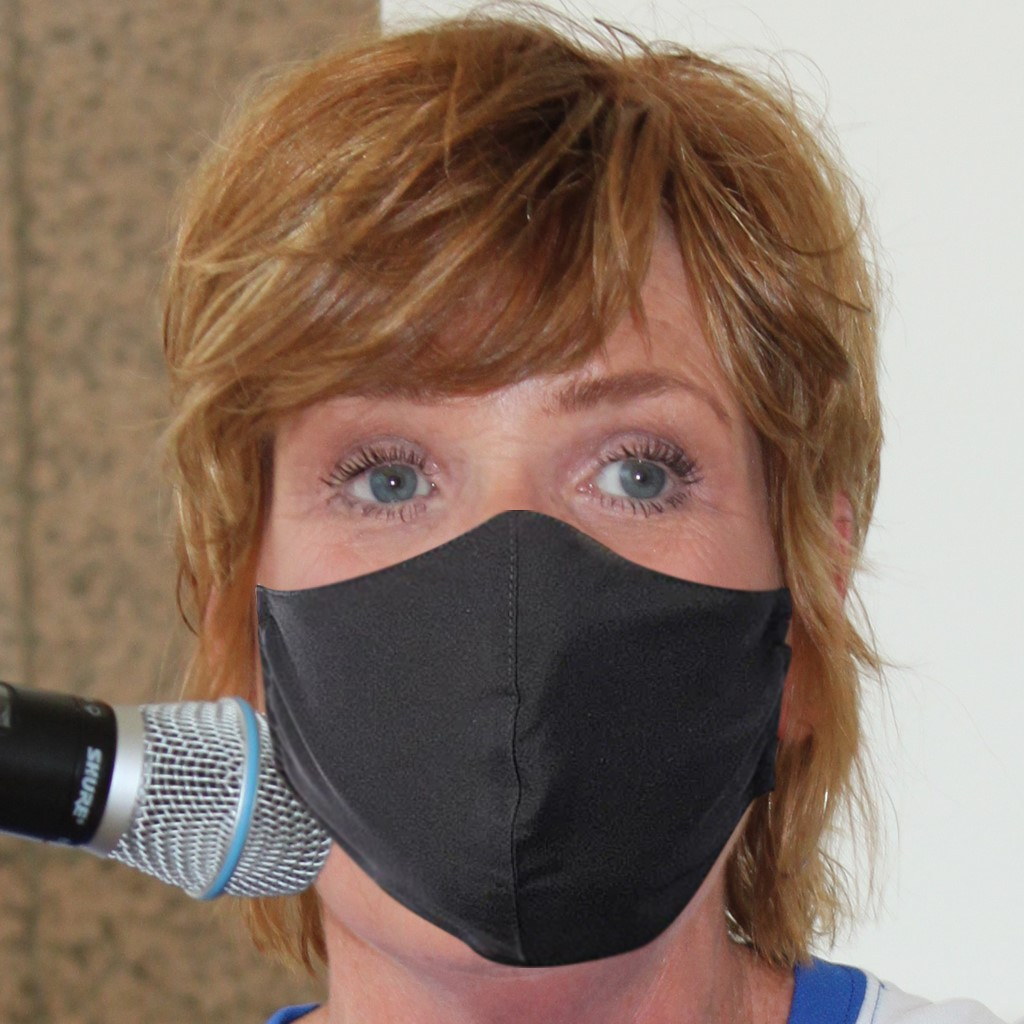con_mascara: (253, 163, 794, 975)
